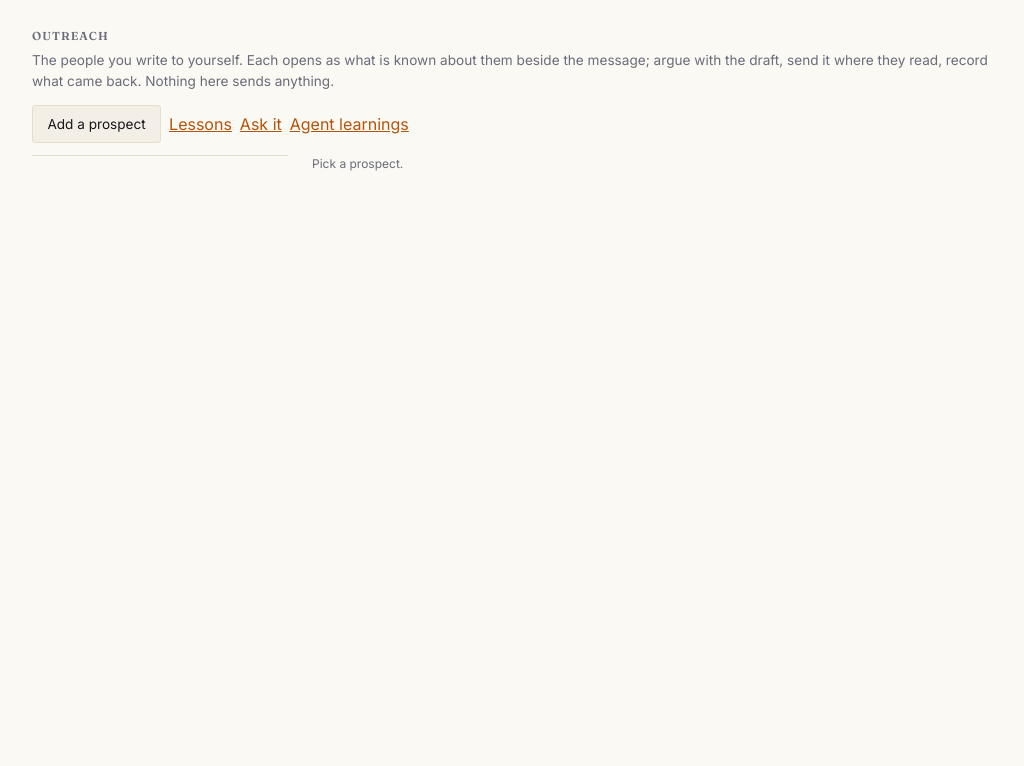
Scenario: the agent learnings › are shown apart from the lessons, read-only
The image size is (1024, 766).
Click the button "Agent learnings" at (349,124), box [290,112,409,136]
(page scrolled)
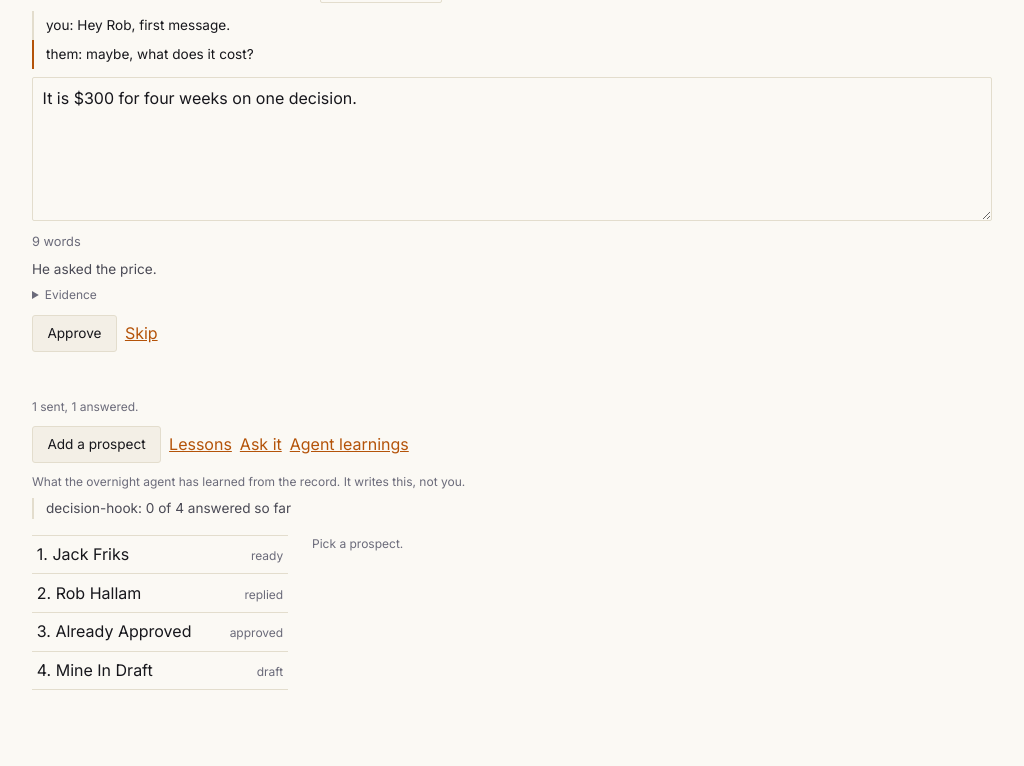
expect the text "decision-hook: 0 of 4 answered so far" is shown: met, box [32,498,992,519]
